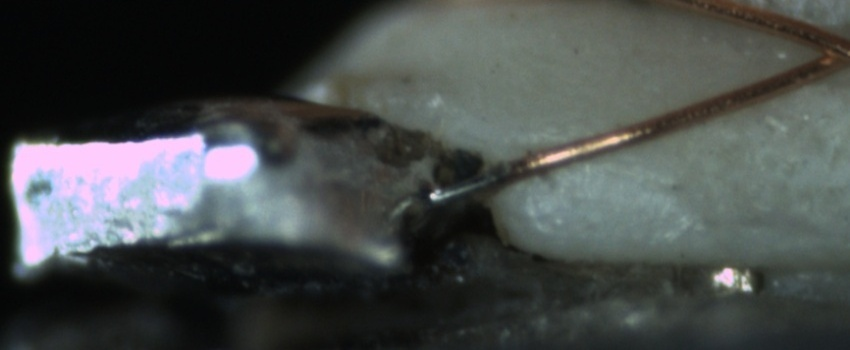CL: (795, 21, 848, 78)
TS: (424, 161, 517, 207)
